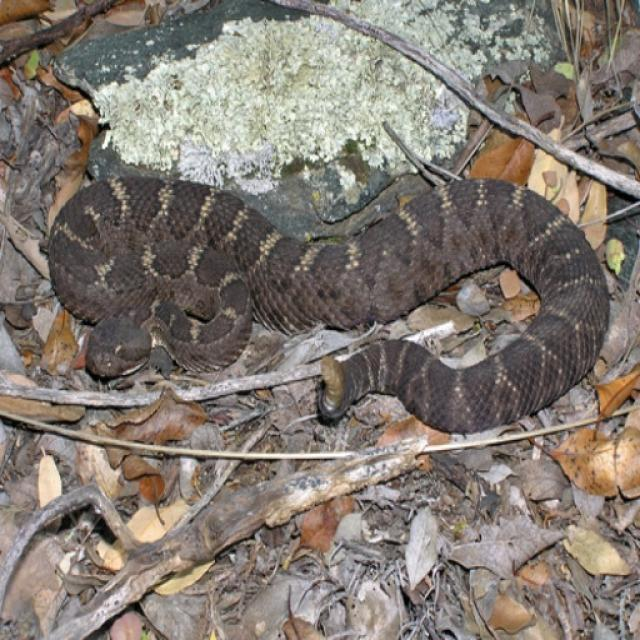snake: (34, 150, 615, 444)
